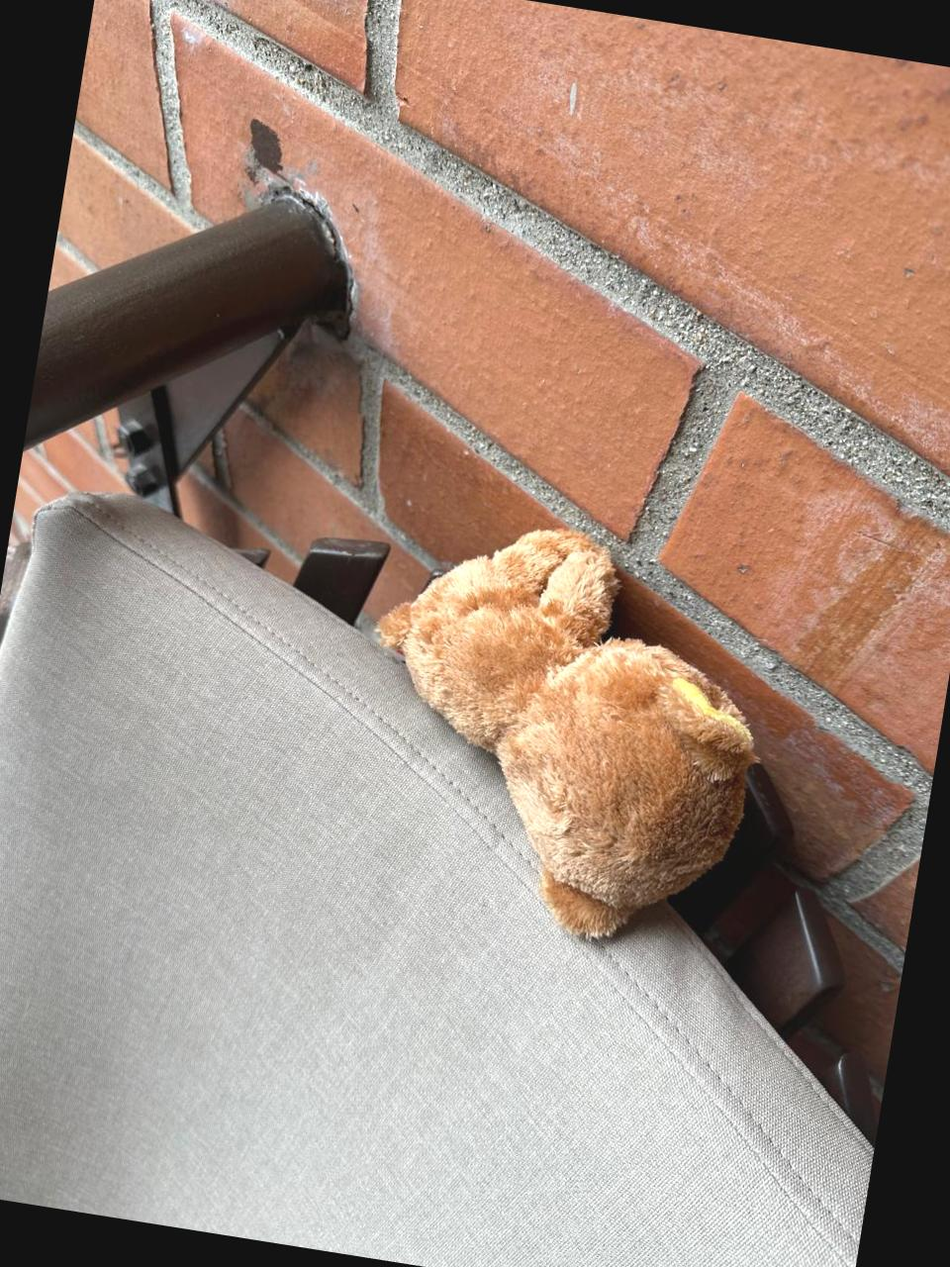peluche_sebastian: (318, 496, 800, 982)
